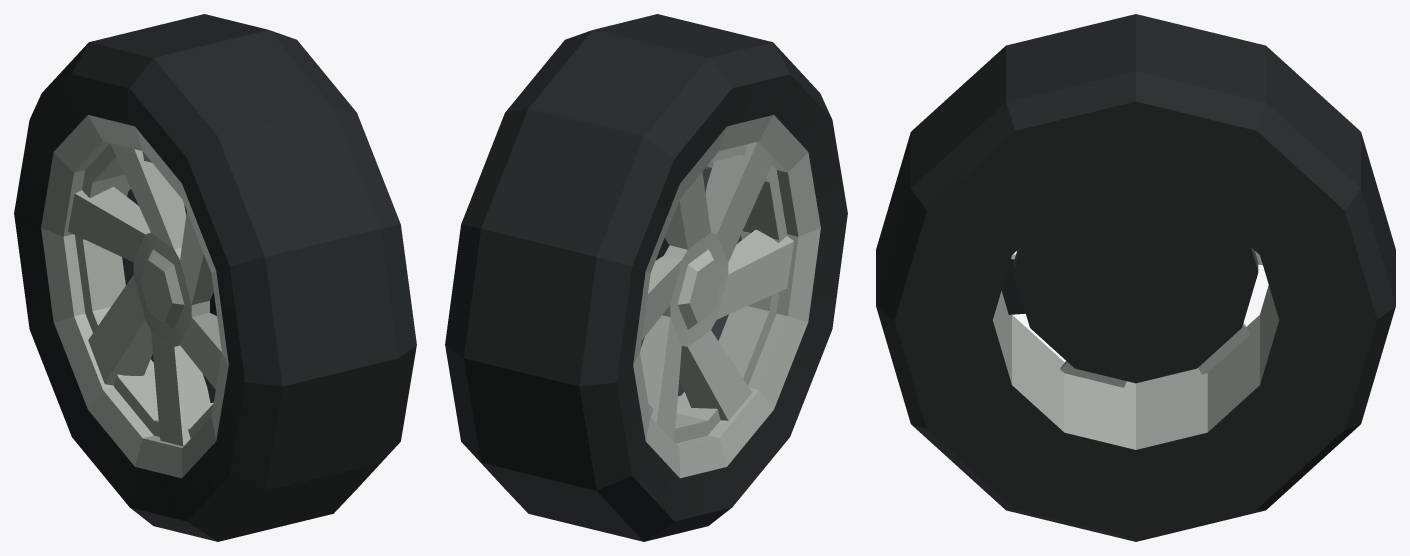
The model's file is SM_Veh_Car_Sedan_Wheel_fr.obj.
The picture shows the model from 3 angles, left to right: view 1: azimuth 30°, elevation 25°; view 2: azimuth 150°, elevation 25°; view 3: azimuth 270°, elevation 25°; orthographic projection.
Parts seen in each view (by area): view 1: SM_Veh_Car_Sedan_Wheel_fr_0; view 2: SM_Veh_Car_Sedan_Wheel_fr_0; view 3: SM_Veh_Car_Sedan_Wheel_fr_0.
Part boxes in pixels (bbox=[...]): SM_Veh_Car_Sedan_Wheel_fr_0: bbox=[14, 14, 416, 541]; SM_Veh_Car_Sedan_Wheel_fr_0: bbox=[445, 14, 847, 541]; SM_Veh_Car_Sedan_Wheel_fr_0: bbox=[876, 14, 1395, 541].
Size of the model in its own units: 0.2707 by 0.7229 by 0.7229.
1 material, 1 textured.
